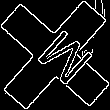M_SW: (21, 21, 89, 89)
